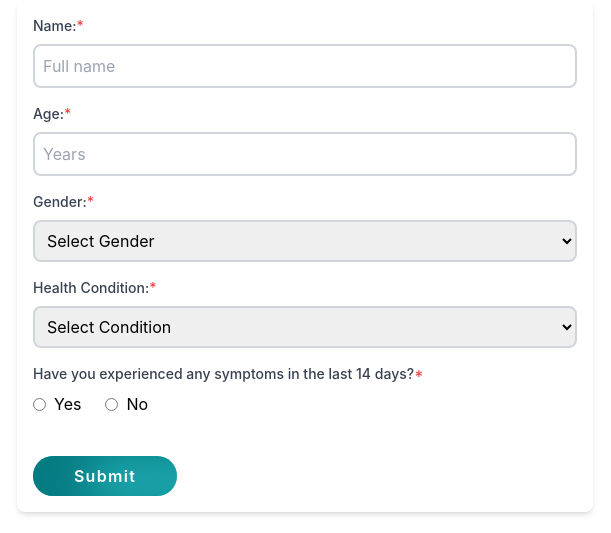
Scenario: Questionnaire Form › submits the form successfully and shows a success message
# Fill out the form fields
In the field labelled "Name:*": (305, 66) [33,44,577,88], type "John Doe"
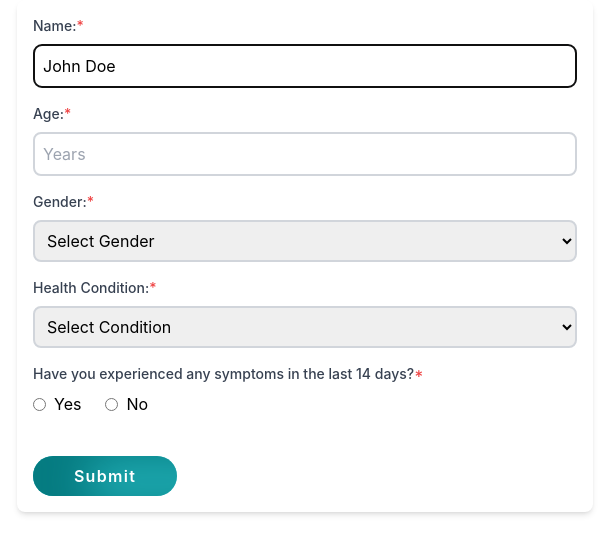
In the number field labelled "Age:*": (305, 154) [33,132,577,176], type "30"
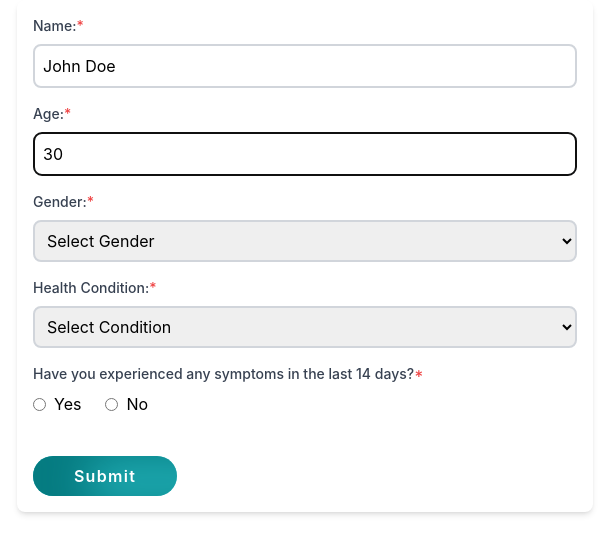
Select "Male" in the dropdown labelled "Gender:*": (305, 241) [33,220,577,262]
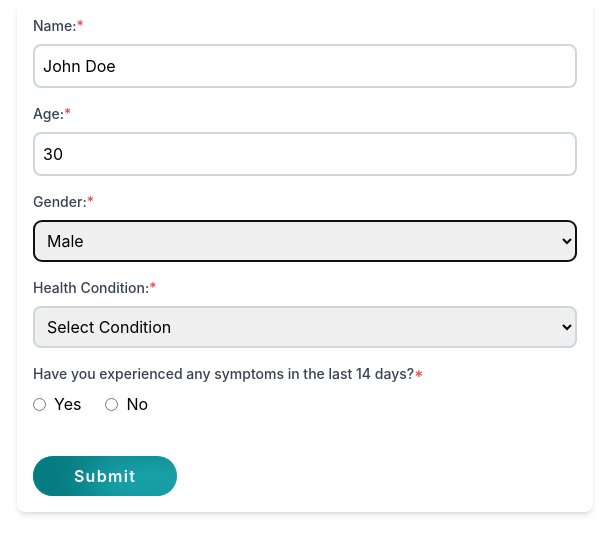
Select "Healthy" in the dropdown labelled "Health Condition:*": (305, 327) [33,306,577,348]
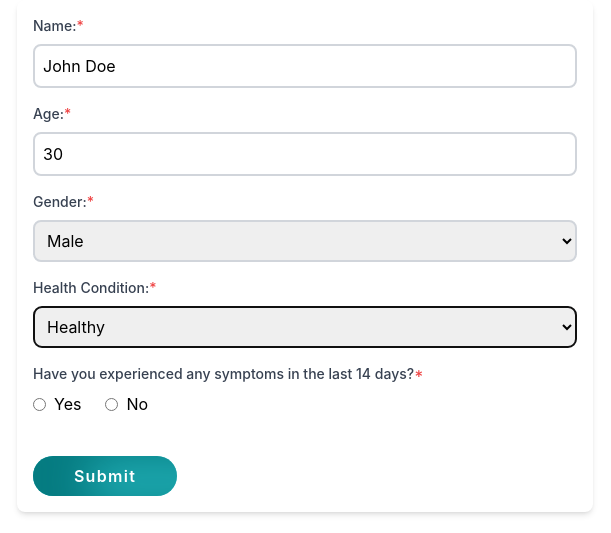
Click the radio button labelled "No": (112, 404) [105,398,118,410]
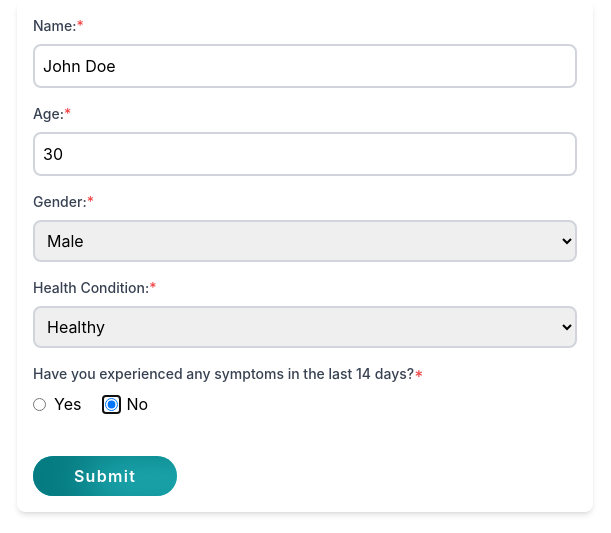
# Submit the form
Click the button "Submit": (105, 476) [33,456,177,496]
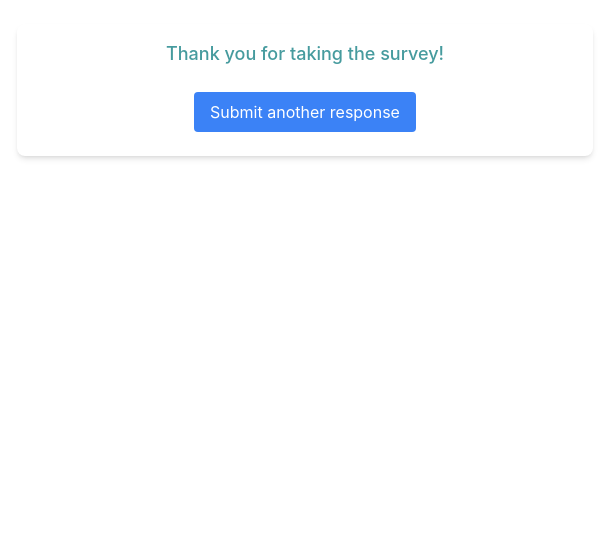
Now the heading "Thank you for taking the survey!" is shown, box [166,43,444,64]
